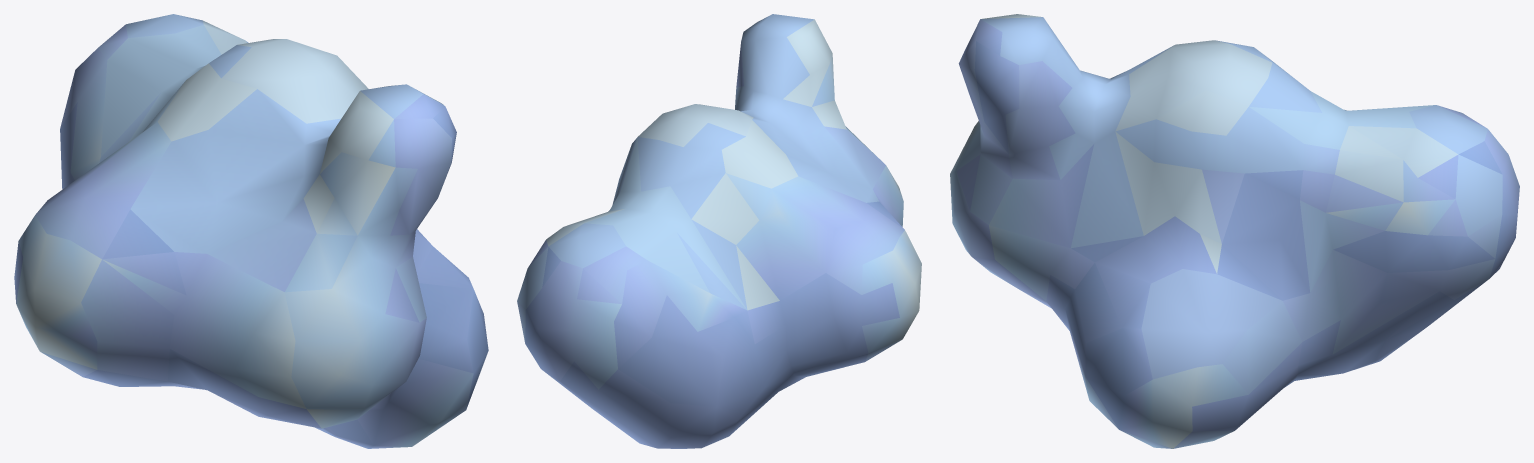
File: Cloud 1.fbx
3 renders of one model, left to right at view 1: azimuth 30°, elevation 25°; view 2: azimuth 150°, elevation 25°; view 3: azimuth 270°, elevation 25°, orthographic. The views are drawn at different scales.
Visible parts, largest first — view 1: Cloud; view 2: Cloud; view 3: Cloud.
Boxes of the visible parts, x1,y1,x2,y2 form: Cloud: (14, 14, 488, 448); Cloud: (517, 14, 921, 448); Cloud: (950, 14, 1519, 448).
Size of the model in its own units: 484 by 457 by 614.
